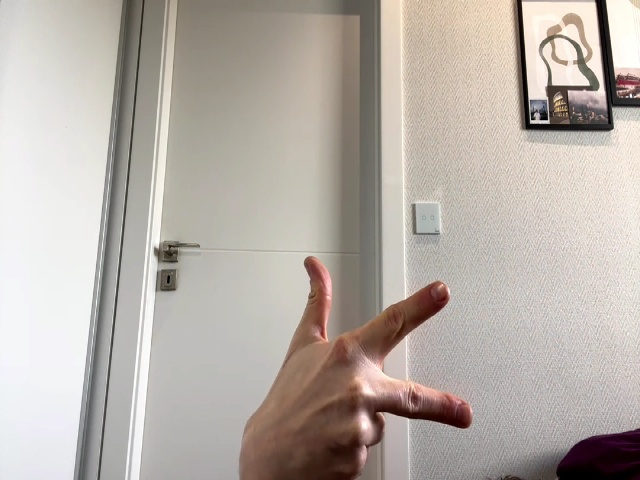K: (276, 256, 473, 480)
